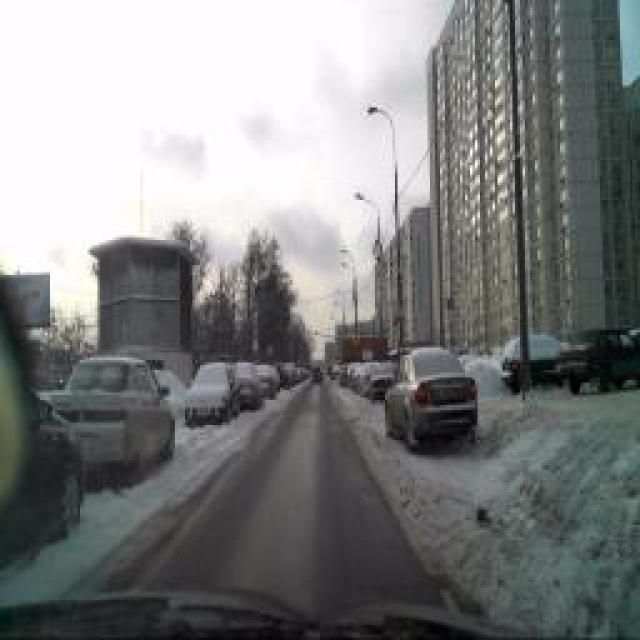sign: (395, 302, 407, 322)
